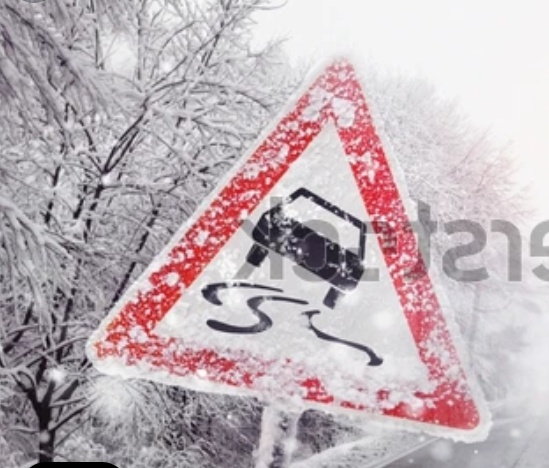Slippery road: (57, 47, 506, 431)
